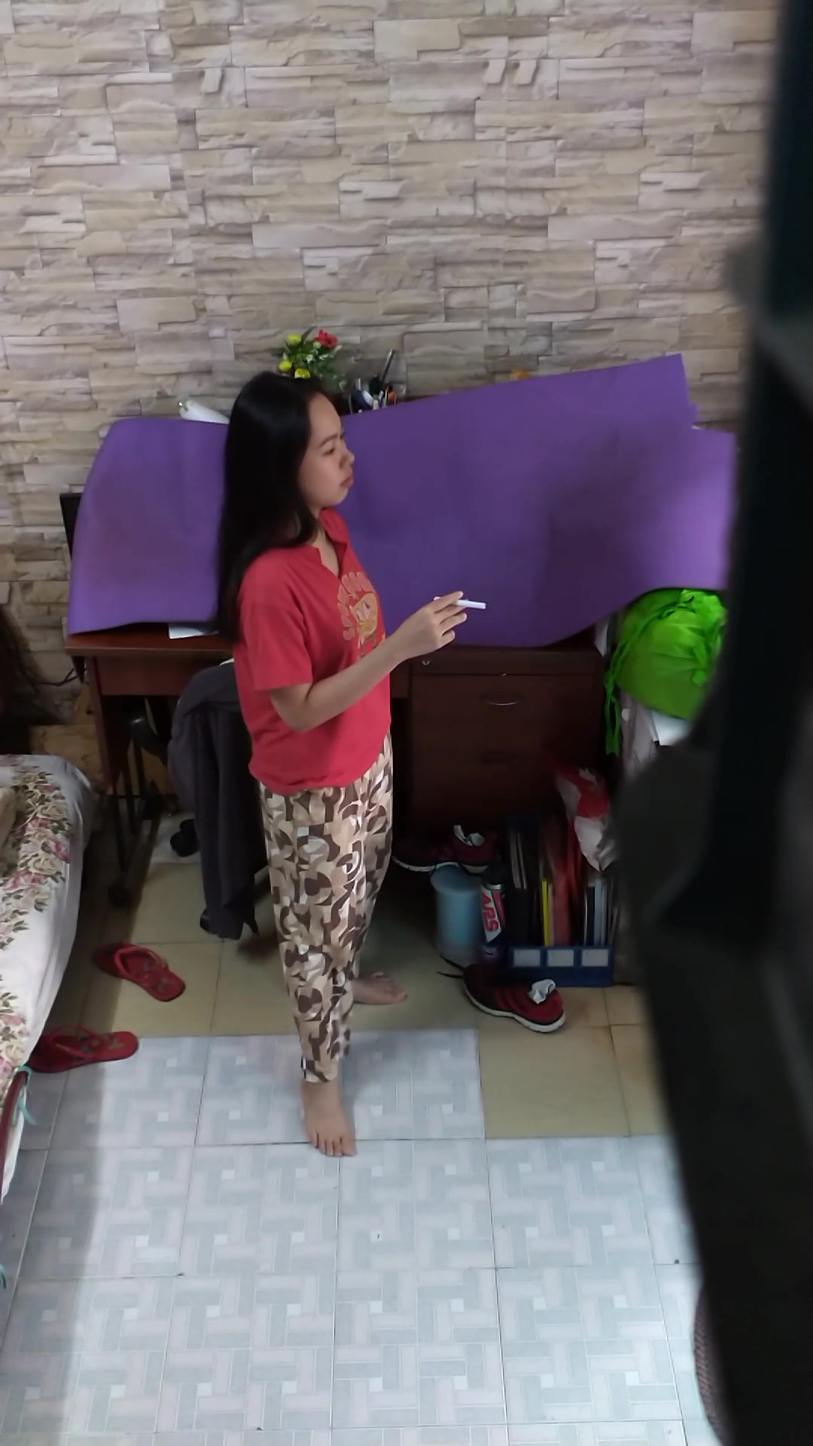cigarette: (458, 598, 489, 614)
person: (232, 365, 484, 1142)
